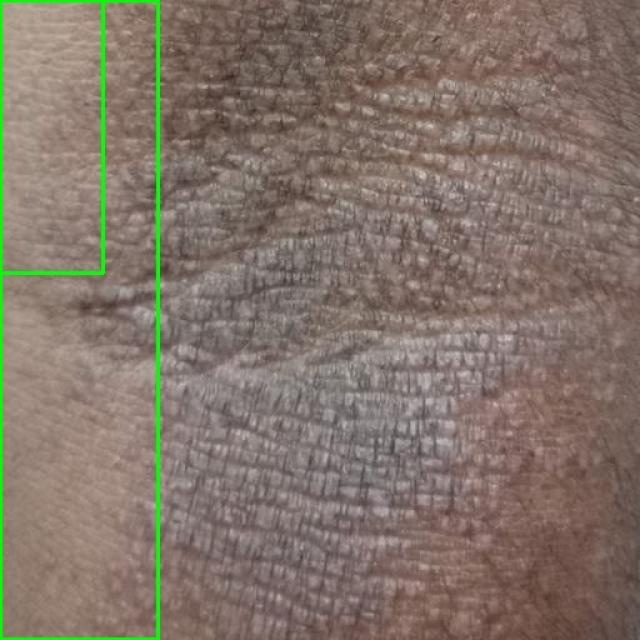Eczema: (0, 0, 158, 639), (0, 0, 102, 272)
